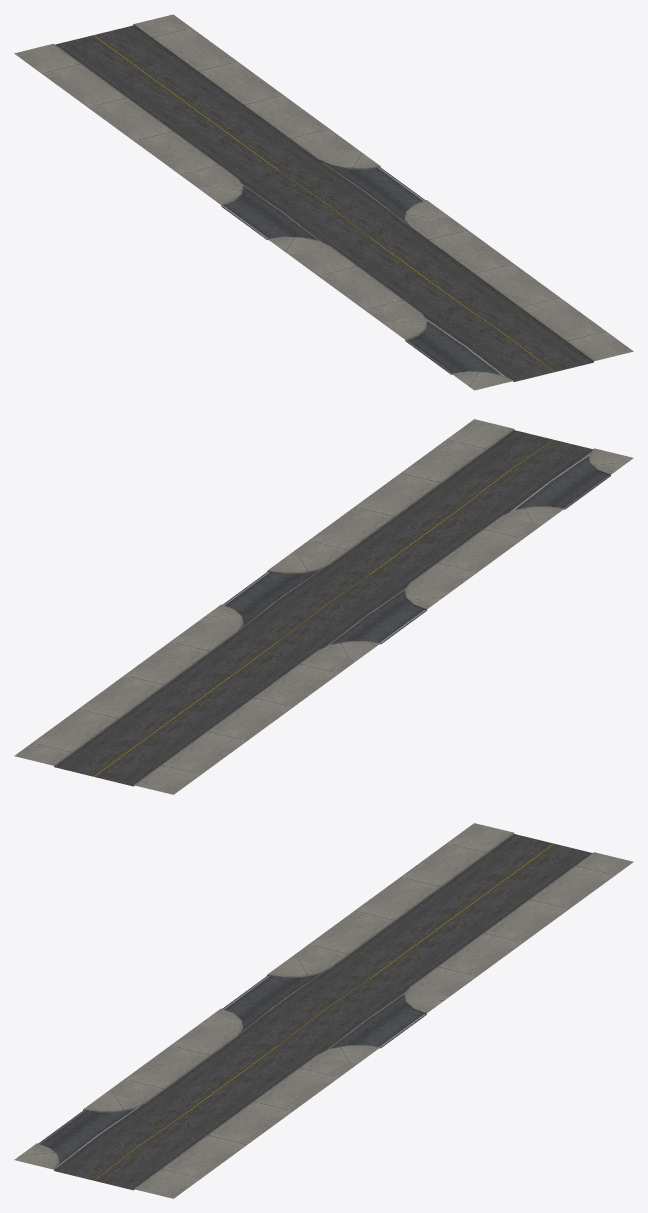
File: vegasnroad086.obj
3 renders of one model, top to bottom at view 1: azimuth 30°, elevation 25°; view 2: azimuth 150°, elevation 25°; view 3: azimuth 330°, elevation 25°, orthographic.
Visible parts, largest first — view 1: VegasNroad086; view 2: VegasNroad086; view 3: VegasNroad086.
Part boxes in pixels (x1=…): VegasNroad086: x1=14, y1=14, x2=633, y2=390; VegasNroad086: x1=14, y1=419, x2=633, y2=794; VegasNroad086: x1=14, y1=823, x2=633, y2=1198.
Size of the model in its own units: 20.01 by 0.2216 by 100.
Materials: 3 (3 with a texture image).
